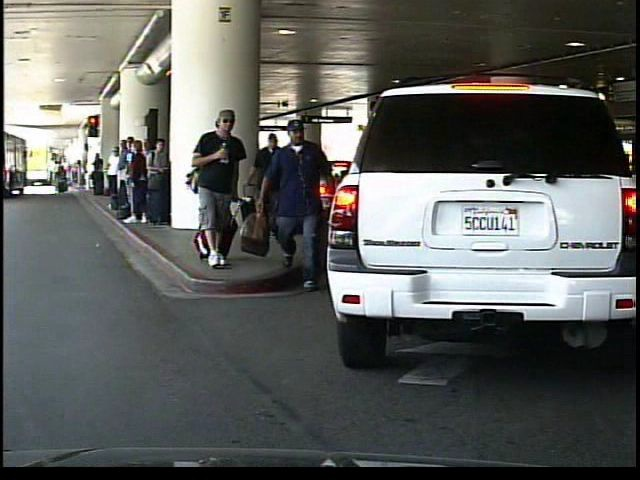person: (256, 100, 330, 282), (190, 104, 246, 269), (251, 135, 292, 240)
